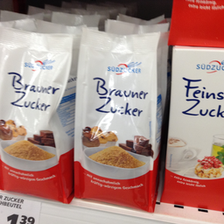sugar: (75, 28, 164, 213), (1, 24, 75, 205), (162, 46, 224, 212)
